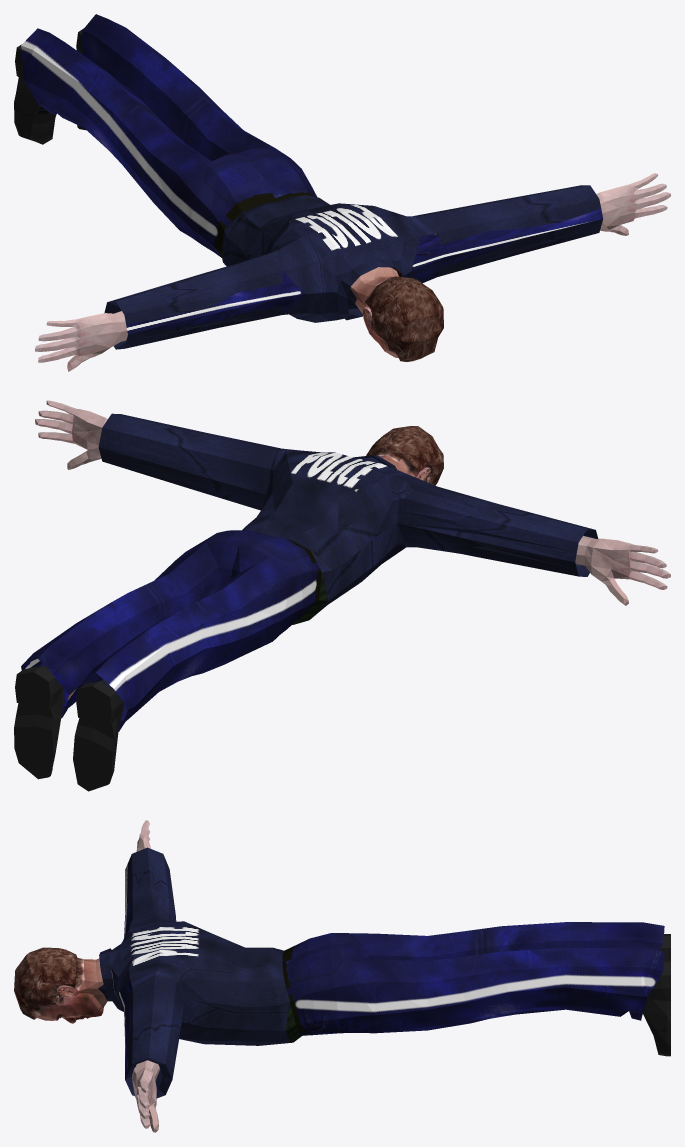
Rendered from tomdrinman1police_wtf.obj.
3 views of the same model, one above another, from view 1: azimuth 30°, elevation 25°; view 2: azimuth 150°, elevation 25°; view 3: azimuth 270°, elevation 25° (orthographic). The views are drawn at different scales.
Visible parts, largest first — view 1: group1, group5, group7, group6, group10, group3, group4, group8, group14; view 2: group1, group5, group6, group7, group8, group3, group4, group10; view 3: group1, group5, group7, group10, group6, group14, group8, group4.
Boxes of the visible parts, left/top/right/bottom form: group1: left=21, top=14, right=316, bottom=261; group5: left=223, top=195, right=444, bottom=322; group7: left=413, top=185, right=603, bottom=276; group6: left=104, top=251, right=284, bottom=349; group10: left=365, top=276, right=443, bottom=361; group3: left=35, top=311, right=127, bottom=371; group4: left=596, top=173, right=670, bottom=235; group8: left=14, top=28, right=86, bottom=144; group14: left=350, top=267, right=398, bottom=357; group1: left=21, top=530, right=328, bottom=731; group5: left=242, top=448, right=436, bottom=618; group6: left=397, top=484, right=597, bottom=576; group7: left=98, top=413, right=281, bottom=510; group8: left=14, top=665, right=123, bottom=791; group3: left=575, top=536, right=670, bottom=605; group4: left=35, top=400, right=107, bottom=469; group10: left=366, top=426, right=443, bottom=485; group1: left=282, top=922, right=664, bottom=1042; group5: left=98, top=914, right=291, bottom=1045; group7: left=124, top=976, right=184, bottom=1098; group10: left=14, top=947, right=84, bottom=1019; group6: left=124, top=847, right=176, bottom=937; group14: left=37, top=958, right=107, bottom=1023; group8: left=643, top=934, right=670, bottom=1056; group4: left=132, top=1060, right=159, bottom=1132.
Bounding box in the file's own units: 660 × 121 × 650.
